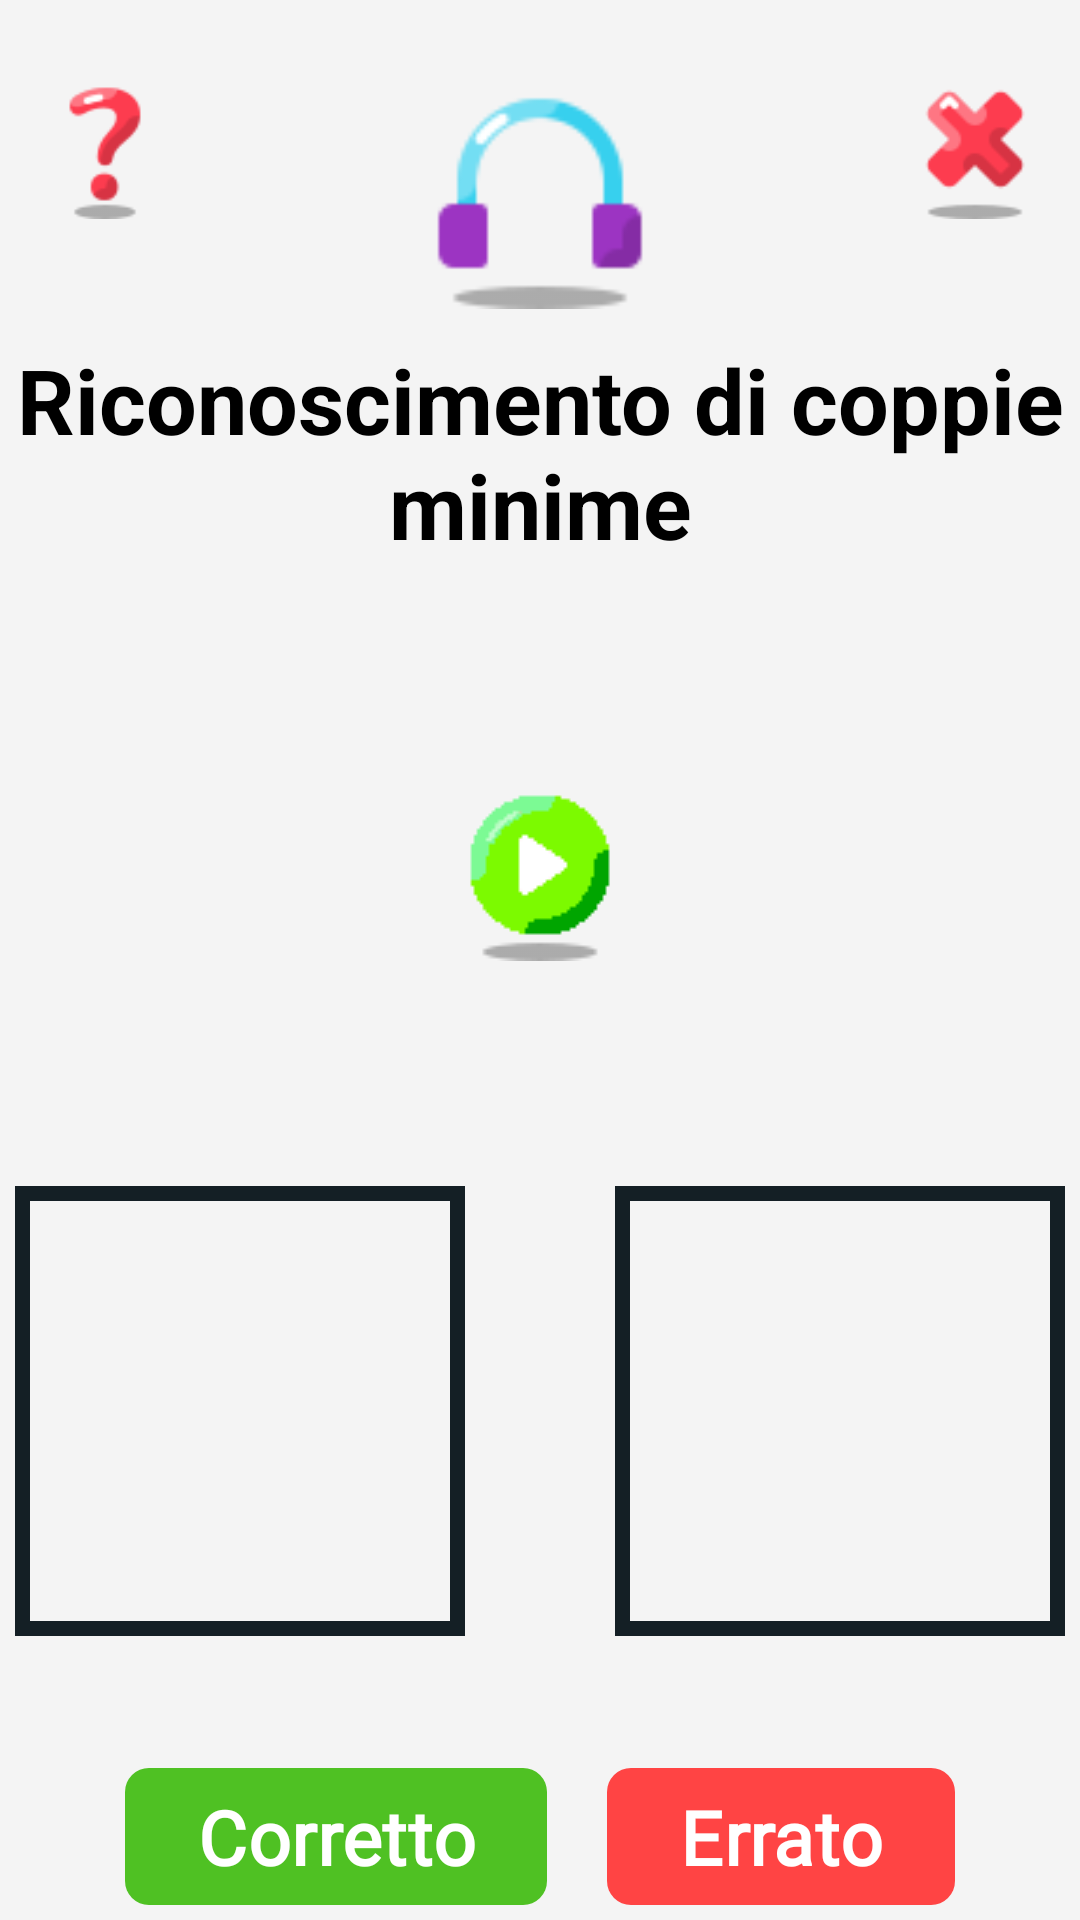

Where icons sit on this 1080w x 1920h app screen, as (x1, y1, x2, y2):
exit: (926, 91, 1024, 219)
help: (69, 87, 141, 219)
listen audio: (437, 98, 643, 309)
play: (470, 795, 610, 961)
